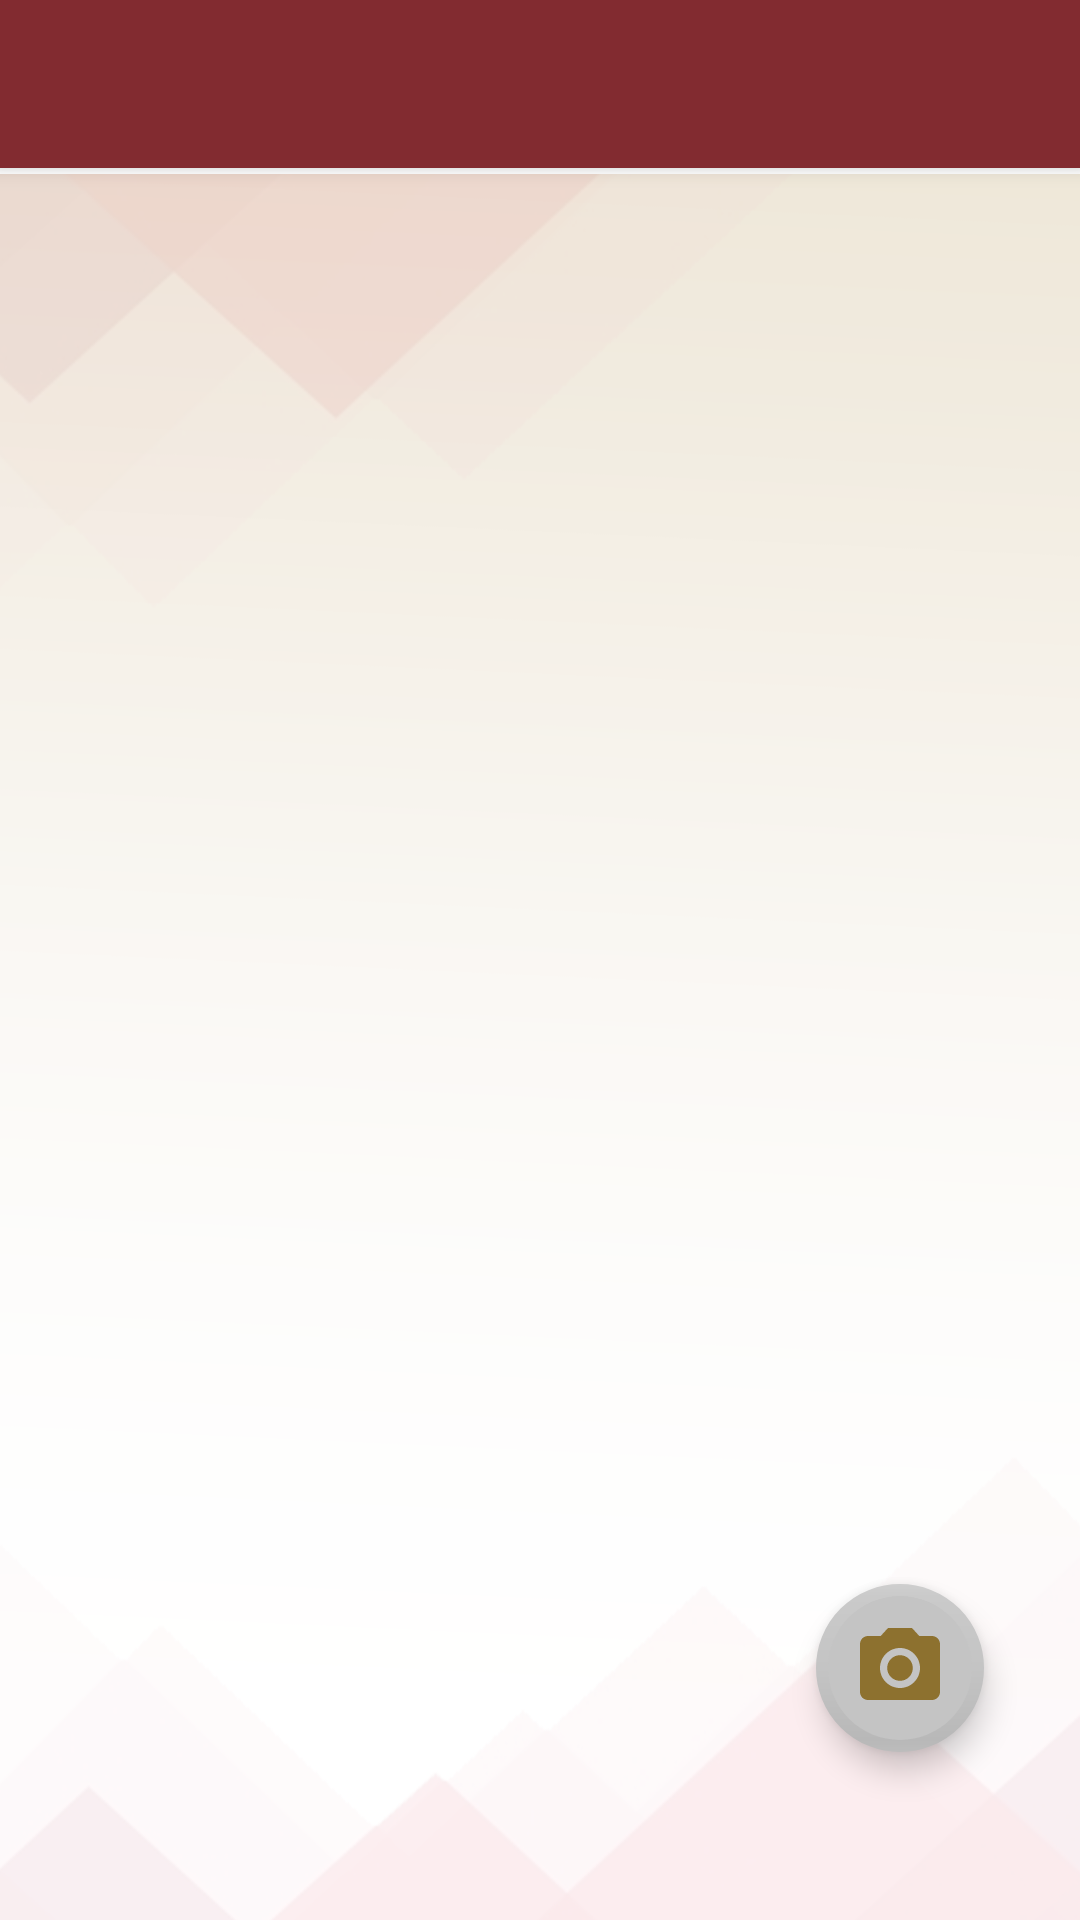

Locate icon controls on the screen. Image size 1080x1920, boxes as (x1, y1, x2, y2).
camera: (816, 1584, 984, 1752)
